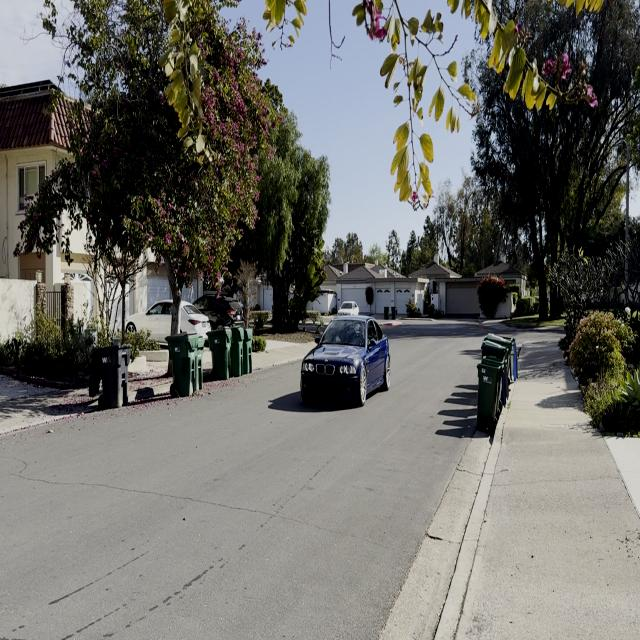Carbeetle: (292, 298, 400, 422)
